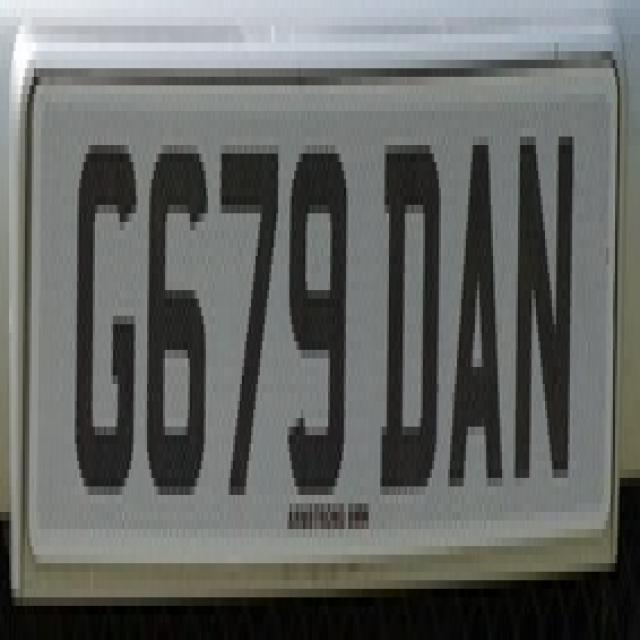License Plate: (8, 9, 628, 608)
